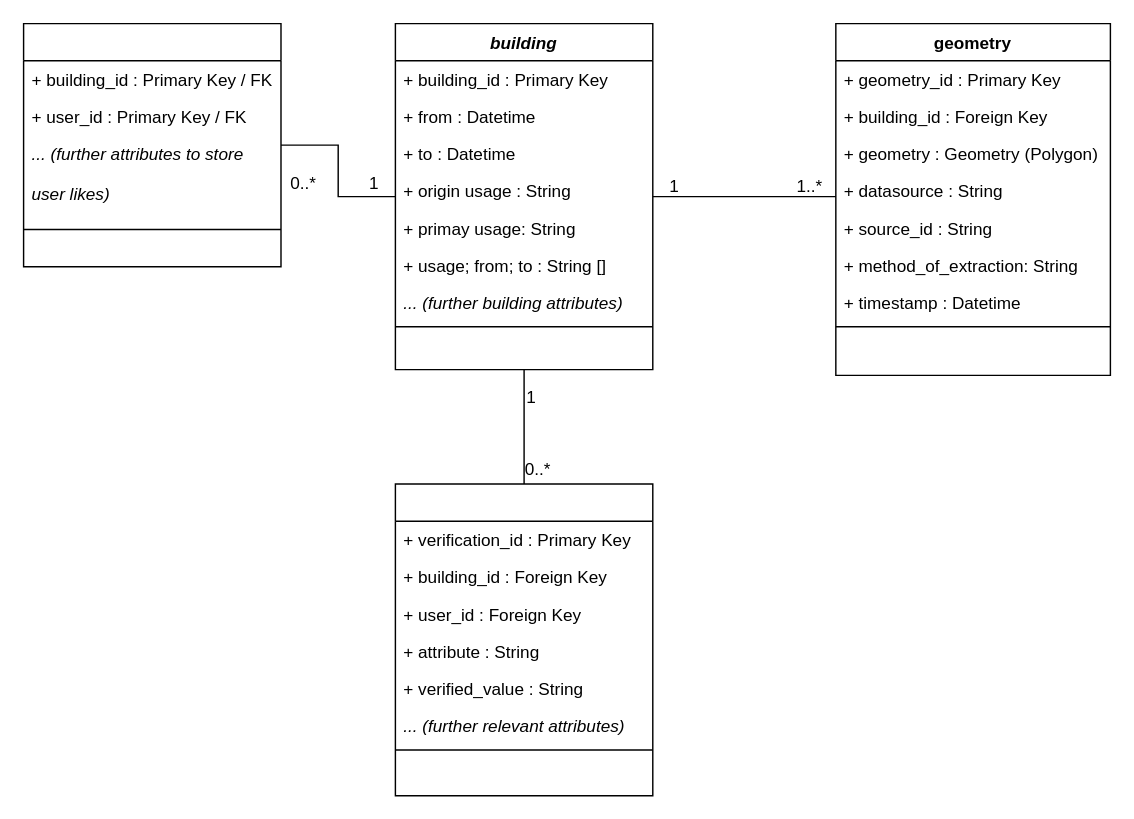
Image size: 1134x819. Some labels were removed from this diagram. The box of each missing label's shape, as (x1, y1, x2, y2) in pixels:
building_user_attributes: (22, 22, 281, 267)
building_verification: (394, 483, 653, 796)
